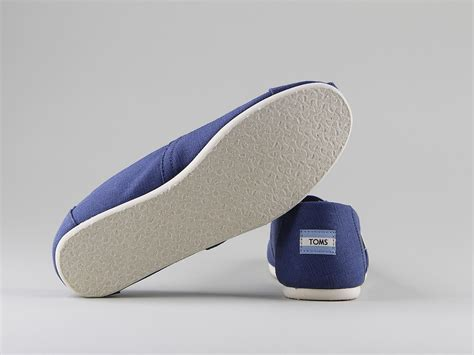nylon: (270, 199, 368, 290)
